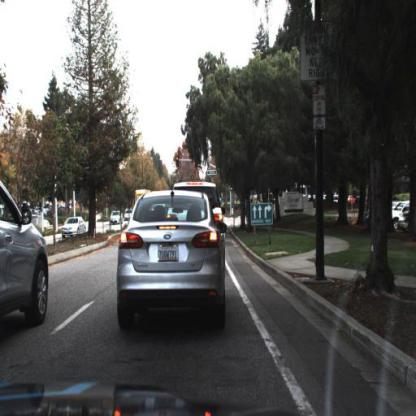car: (118, 189, 227, 332), (1, 175, 52, 336), (389, 199, 408, 230), (208, 183, 221, 225), (110, 210, 123, 228)
trafficLight: (176, 157, 181, 168)
